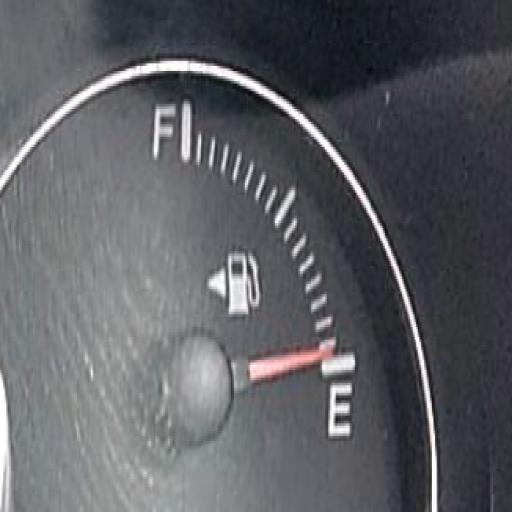empty: (326, 376, 354, 448)
fuel_icon: (206, 244, 263, 320)
full: (148, 94, 177, 162)
guage_area: (4, 46, 435, 512)
needle_center: (142, 321, 251, 458)
needle_tip: (305, 339, 335, 370)
